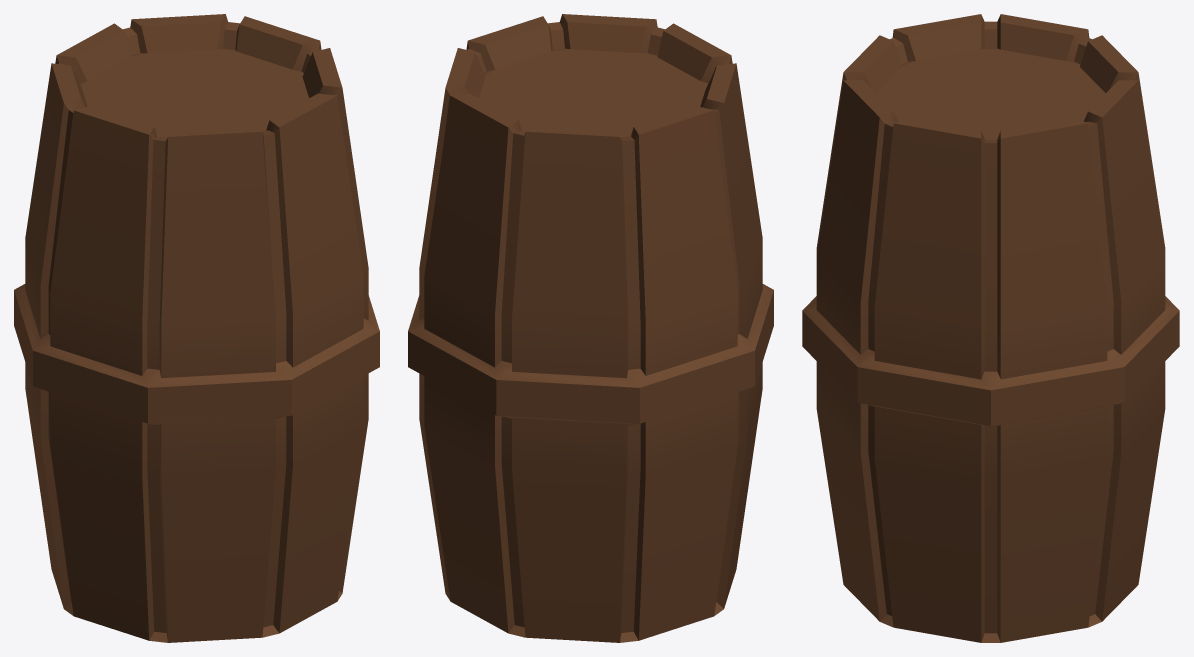
Rendered from a_z2_barrel_m.fbx.
3 views of the same model, side by side, from view 1: azimuth 30°, elevation 25°; view 2: azimuth 150°, elevation 25°; view 3: azimuth 270°, elevation 25° (orthographic).
Parts seen in each view (by area): view 1: a_z2_barrel_m; view 2: a_z2_barrel_m; view 3: a_z2_barrel_m.
Boxes of the visible parts, bbox=[...] form: a_z2_barrel_m: bbox=[14, 14, 379, 642]; a_z2_barrel_m: bbox=[408, 14, 773, 642]; a_z2_barrel_m: bbox=[802, 14, 1179, 642].
Size of the model in its own units: 91 by 134 by 91.
